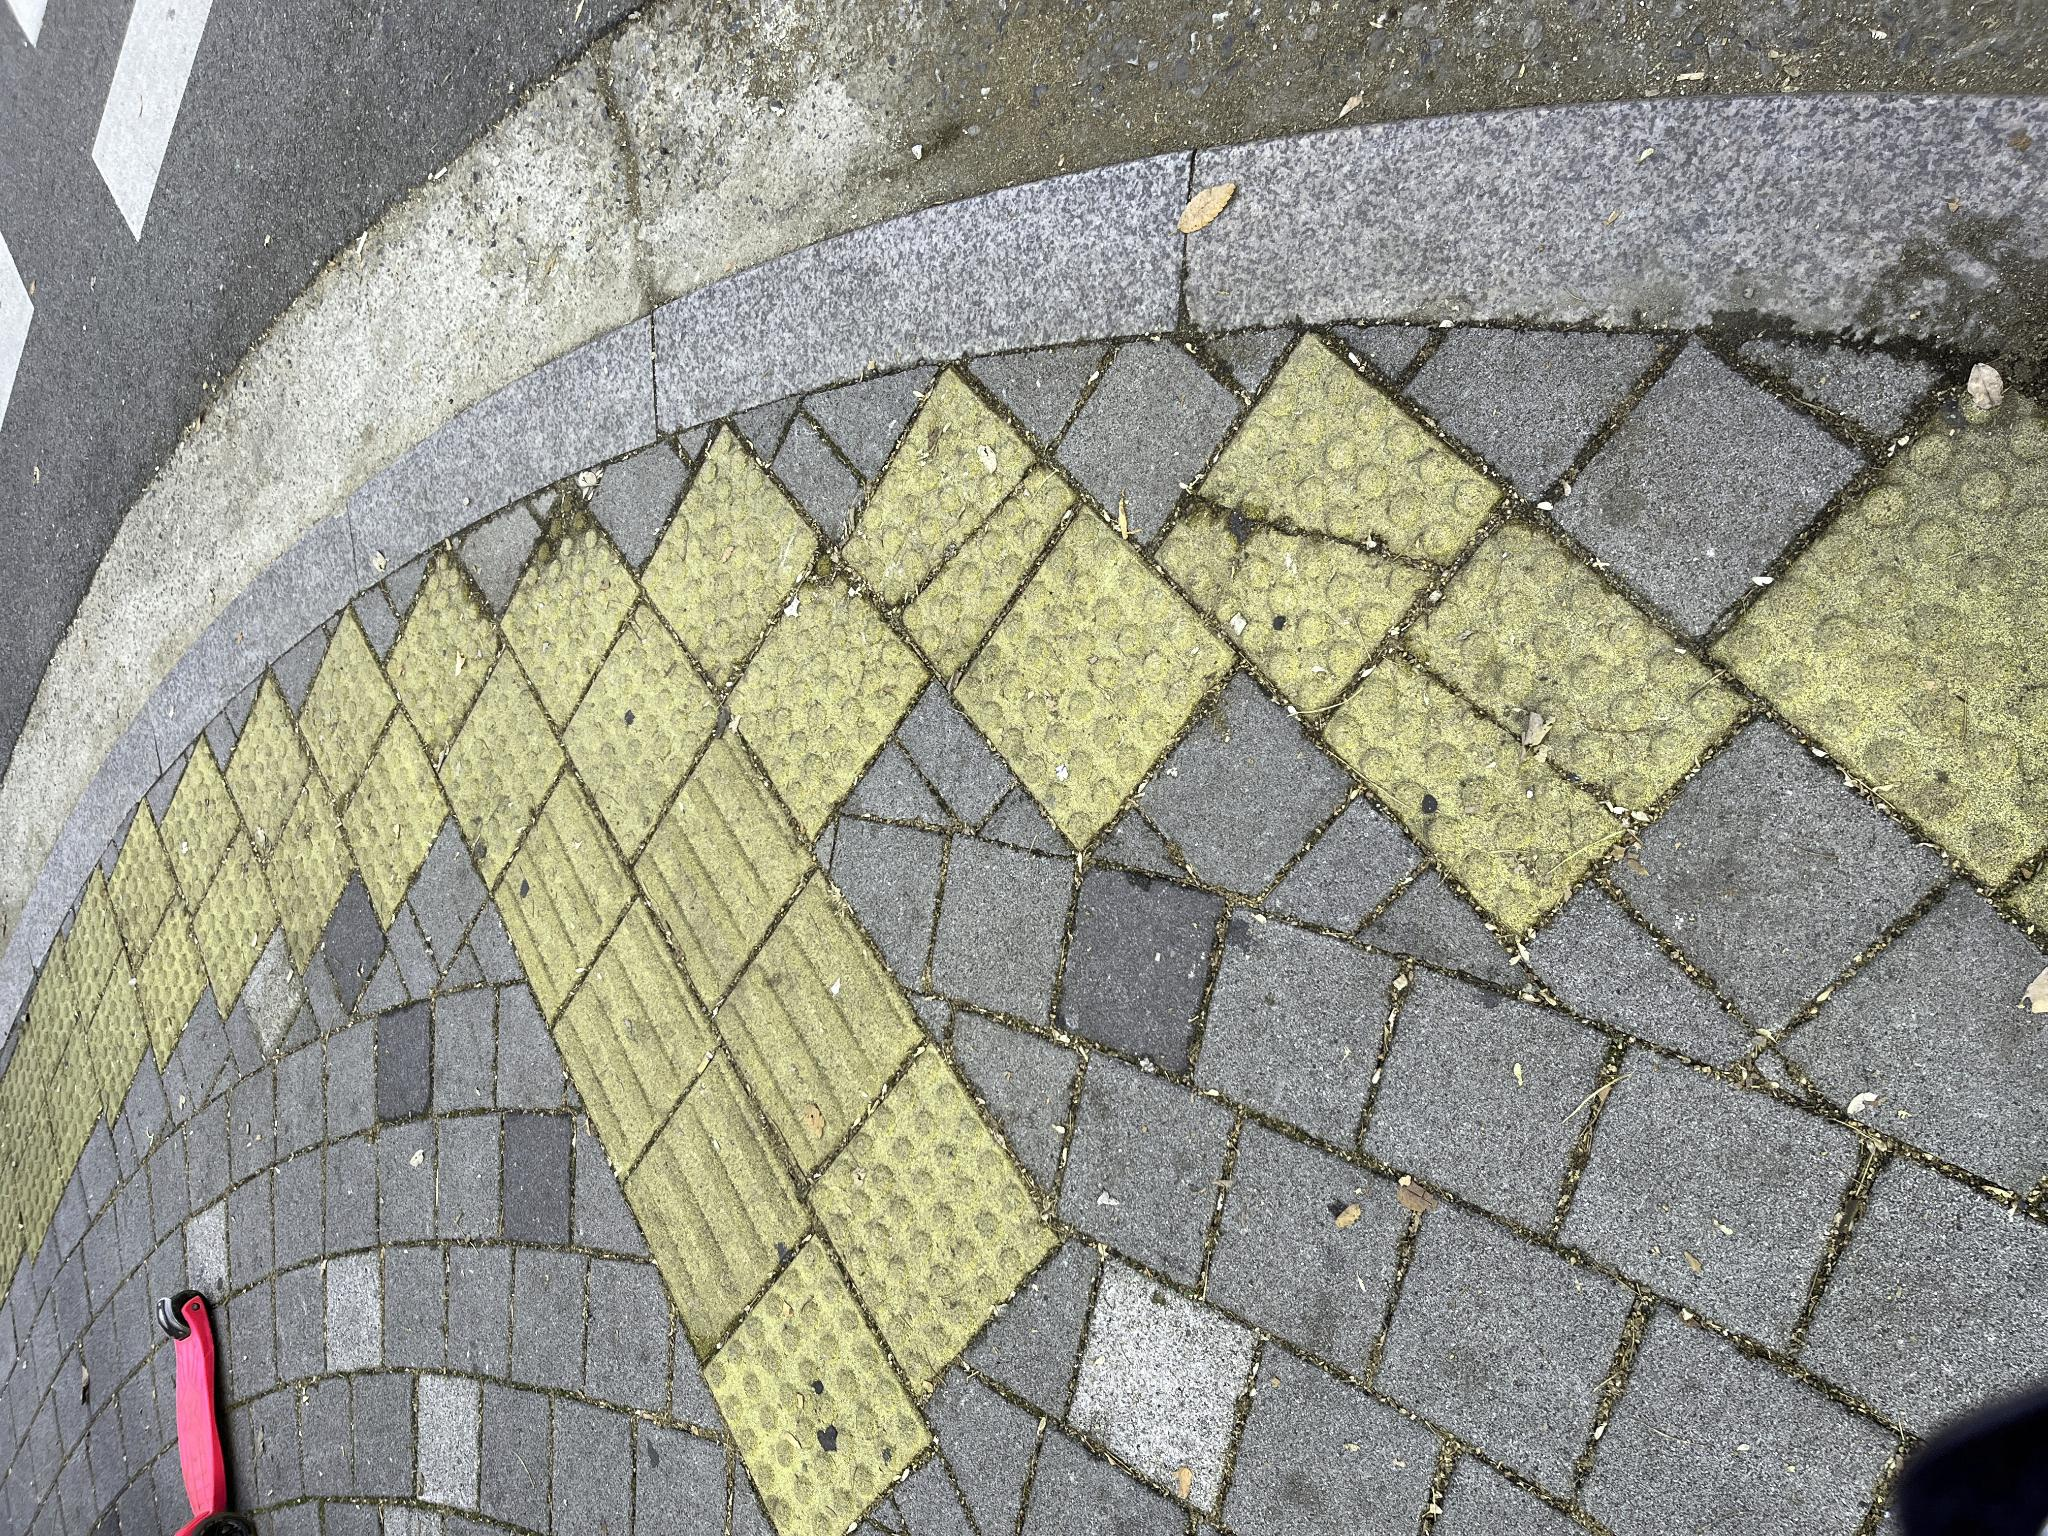Stop block broken: (813, 1155, 1200, 1500), (600, 1322, 1023, 1536), (856, 838, 1166, 1071)
Stop block normal: (688, 954, 1029, 1231), (145, 808, 493, 1054), (697, 725, 982, 925), (844, 641, 1110, 816)
Straight block normal: (359, 714, 662, 919), (179, 625, 485, 806), (526, 634, 812, 808), (357, 553, 632, 715), (516, 495, 766, 633)
